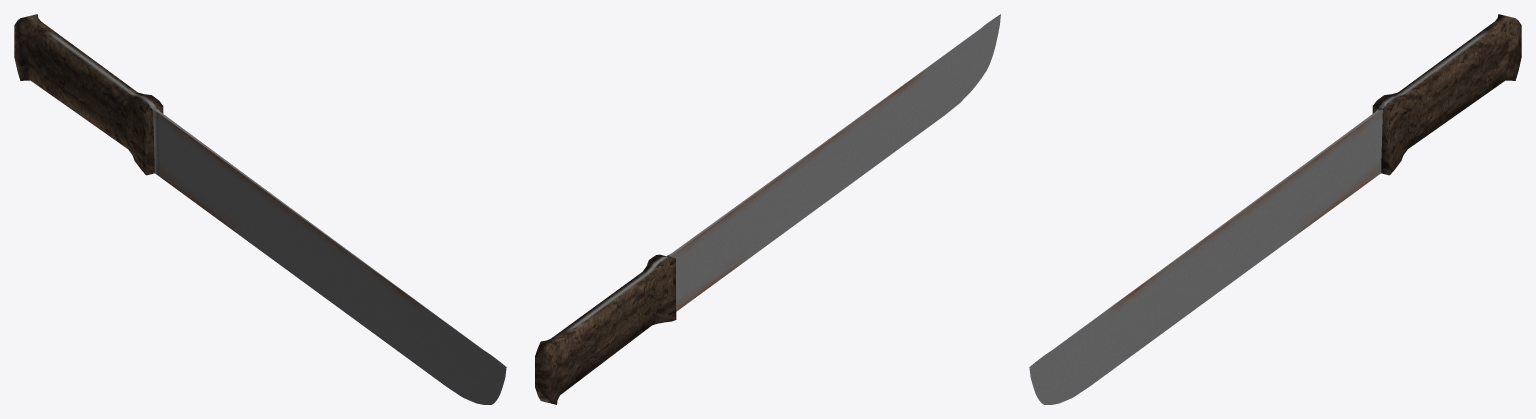
Rendered from Machete_v01.obj.
The picture shows the model from 3 angles, left to right: view 1: azimuth 30°, elevation 25°; view 2: azimuth 150°, elevation 25°; view 3: azimuth 330°, elevation 25°; orthographic projection. The views are drawn at different scales.
Parts seen in each view (by area): view 1: machete_v02; view 2: machete_v02; view 3: machete_v02.
Part boxes in pixels (<box>): machete_v02: <box>14,14,506,404</box>; machete_v02: <box>535,14,1000,404</box>; machete_v02: <box>1029,14,1521,404</box>.
Bounding box in the file's own units: 0.3211 × 1.2 × 15.57.
Materials: 1 (1 with a texture image).
